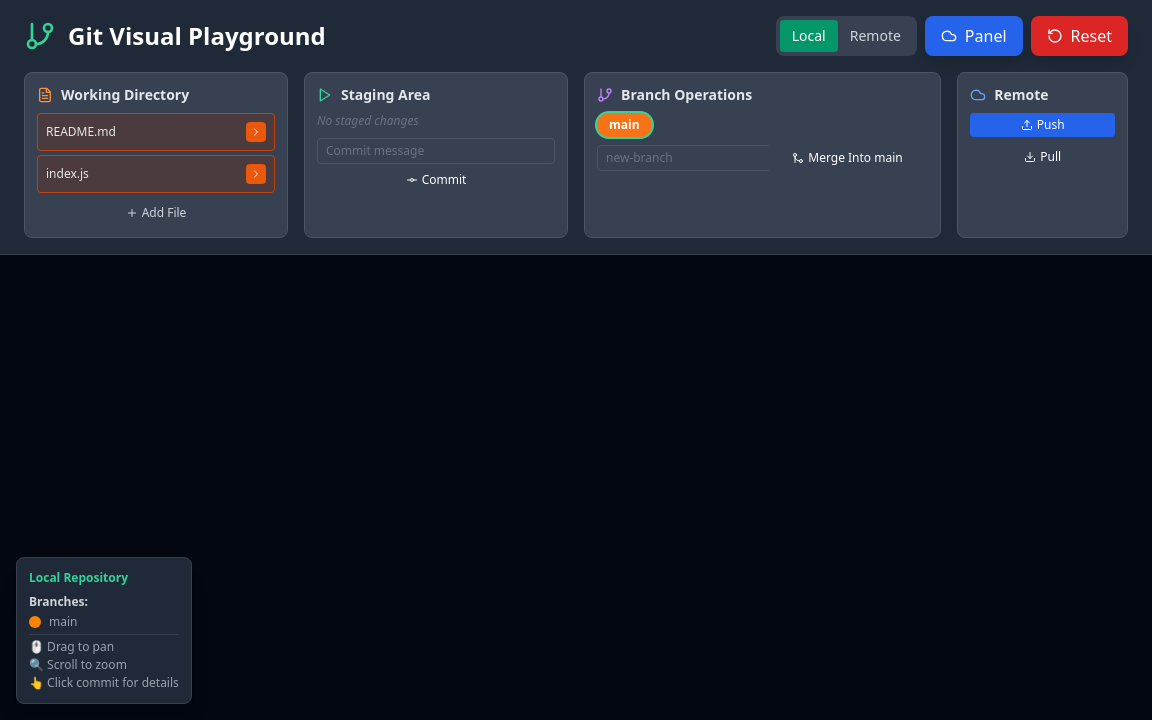
Git Visual Playground › Dialog Interactions › T9.1: Add File dialog opens when clicking Add File
This screenshot has width=1152, height=720.
What coordinates should you click on to do the following:
click the button "Add File"
I would click on:
 (156, 213)
Its box is [37,201,275,225].
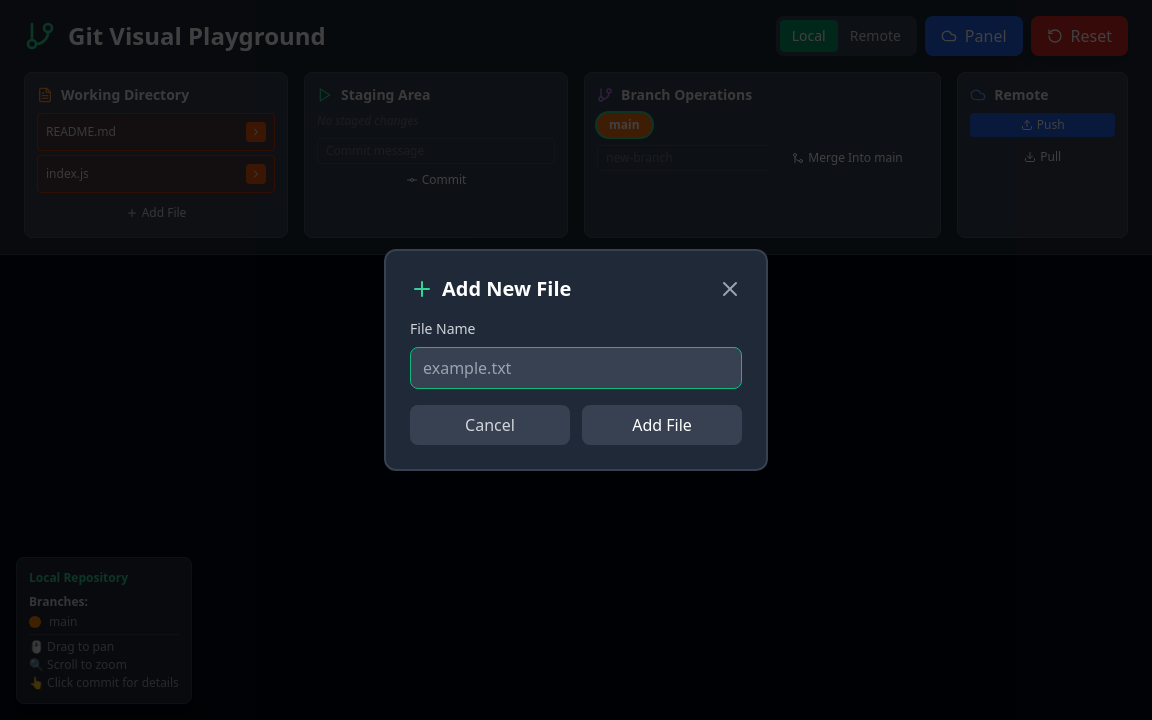
Result: the heading "Add New File" is shown at [410,275,571,303]
